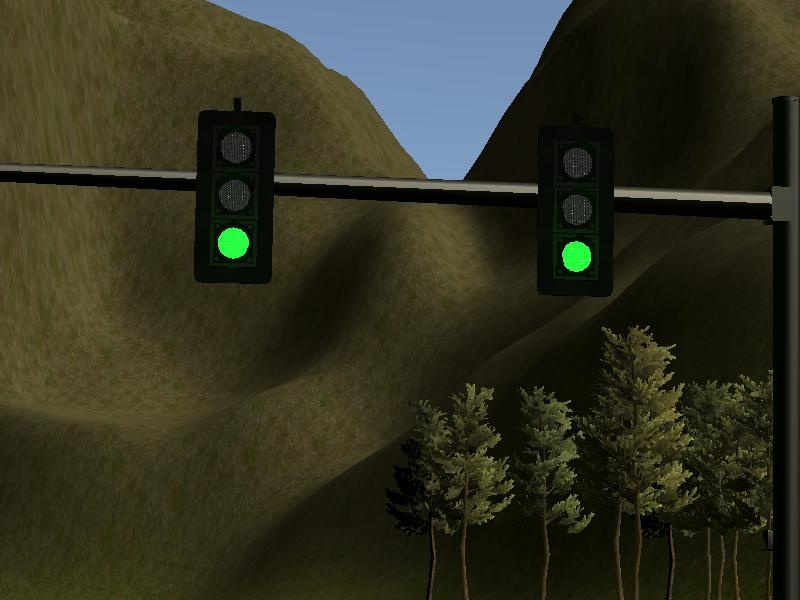green: (187, 108, 277, 288), (536, 132, 607, 294)
